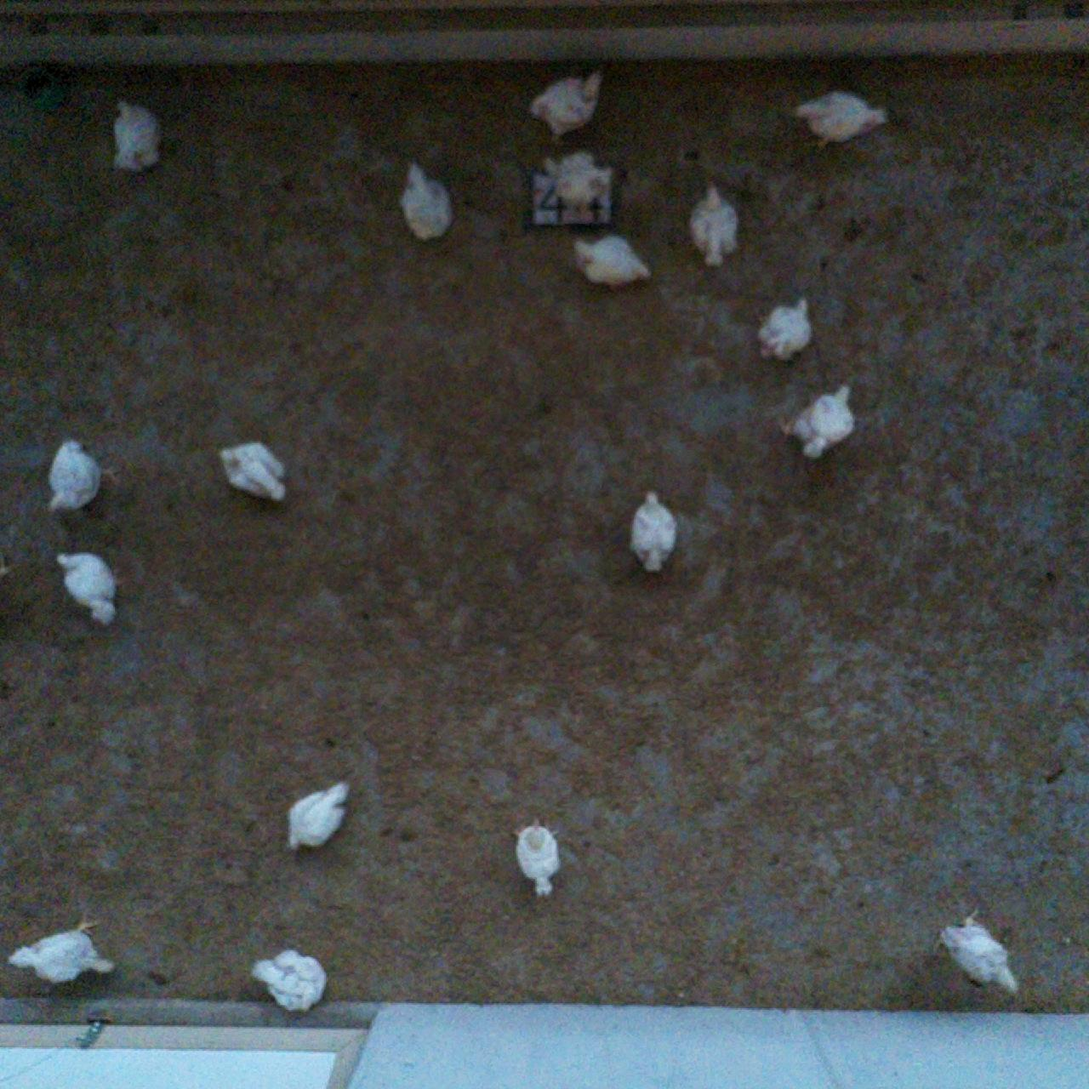chicken: (785, 85, 898, 163), (100, 102, 195, 190), (930, 920, 1039, 996), (5, 921, 114, 991), (206, 431, 297, 513), (623, 483, 692, 584), (30, 435, 113, 516), (284, 771, 357, 863), (390, 163, 467, 245), (784, 382, 860, 465), (507, 817, 576, 908), (572, 224, 656, 298), (50, 552, 131, 628), (250, 949, 330, 1025), (531, 71, 613, 142), (687, 174, 741, 274), (545, 149, 617, 217), (757, 292, 817, 367)
